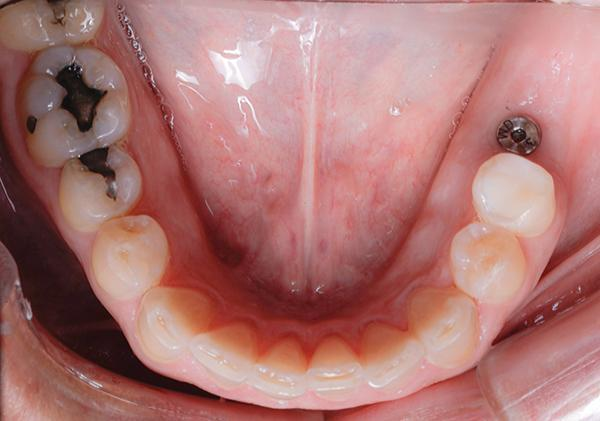LL1BC_healthy: (450, 224, 527, 307)
LL2BC_healthy: (471, 152, 559, 238)
LLCI_healthy: (309, 332, 361, 396)
LLC_healthy: (407, 285, 480, 370)
LLLI_healthy: (358, 319, 425, 392)
LR1BC_healthy: (92, 210, 171, 300)
LR1M_decay: (13, 45, 135, 166)
LR2BC_decay: (55, 142, 146, 236)
LR2M_decay: (1, 1, 109, 51)
LRCI_healthy: (251, 333, 310, 397)
LRC_healthy: (135, 284, 222, 355)
LRLI_healthy: (190, 318, 261, 385)
